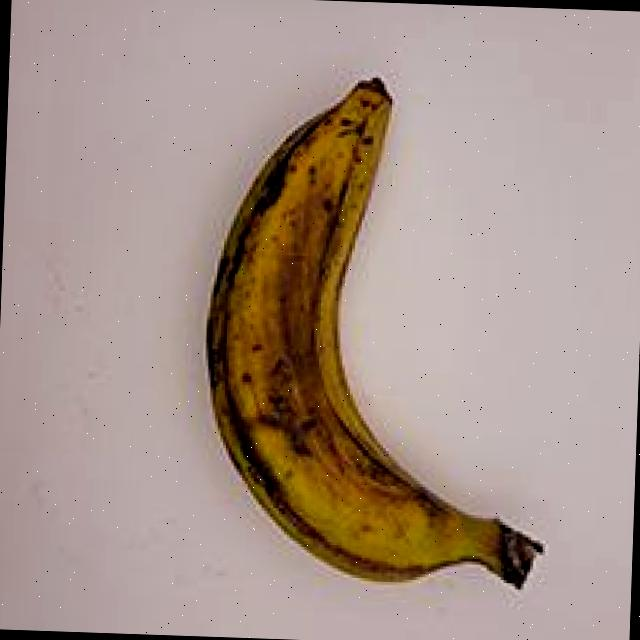Overripe: (158, 41, 586, 622)
